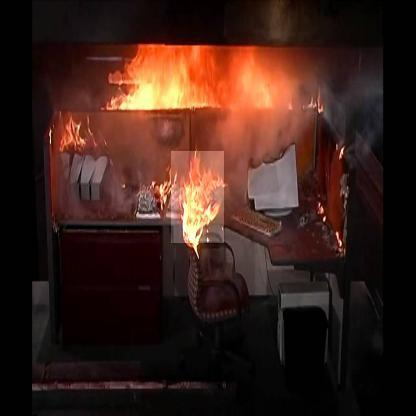Fire: (95, 44, 329, 113), (172, 151, 226, 244)
